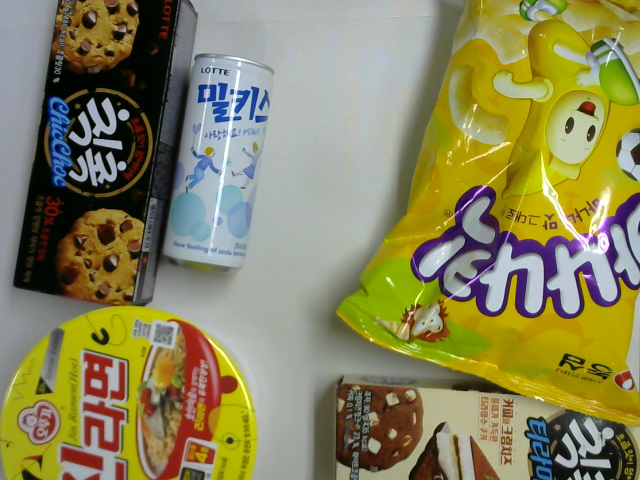Banana_Kick: (330, 1, 639, 435)
Chicchok_Original_2400: (9, 1, 203, 309)
Chicchok_Tiramisu: (331, 376, 640, 479)
Jinlamyeon_Hot_Taste_Large_Cup: (1, 305, 259, 480)
Milkies_250ml: (152, 49, 279, 277)
